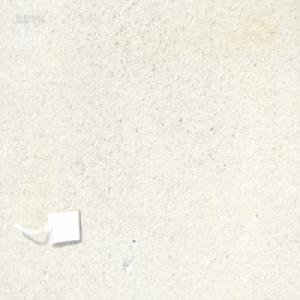LuggageTag: (12, 207, 83, 249)
